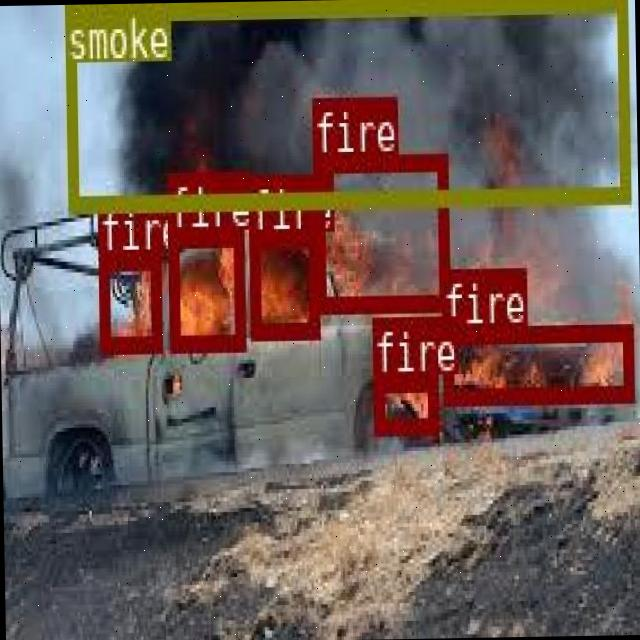fire: (311, 151, 447, 310), (442, 324, 632, 399), (166, 228, 243, 350), (246, 230, 318, 336), (96, 250, 160, 351), (372, 372, 436, 432)
smoke: (63, 0, 627, 206)
